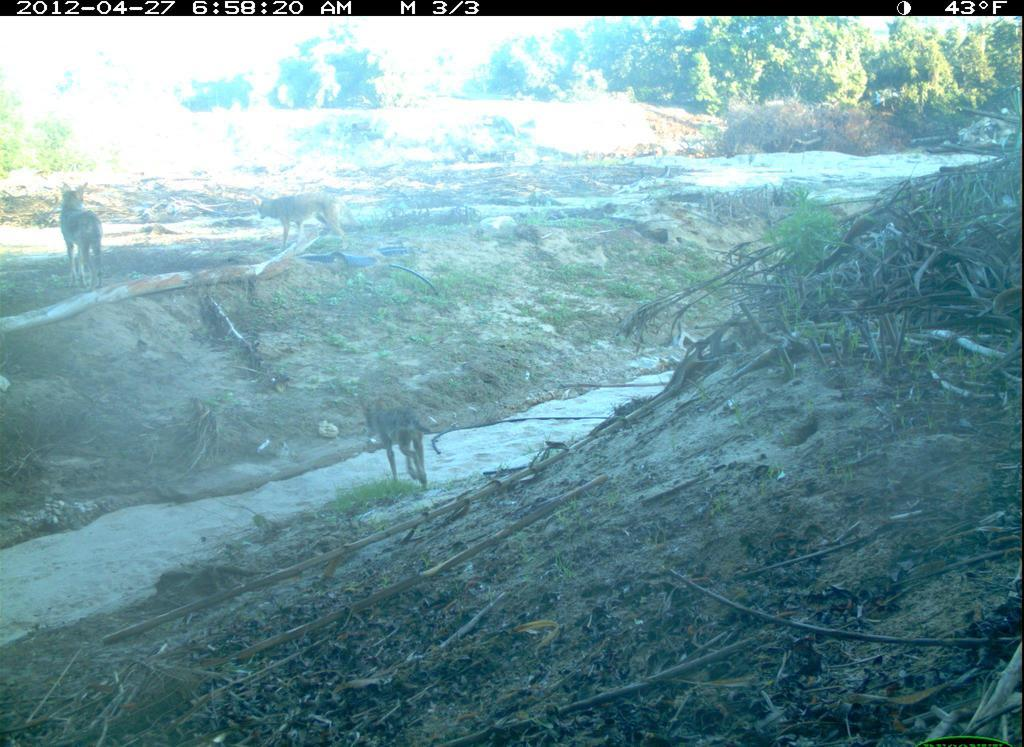coyote: (52, 172, 118, 299)
